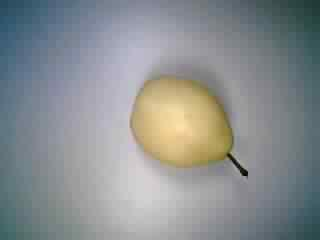pear: (126, 70, 255, 185)
